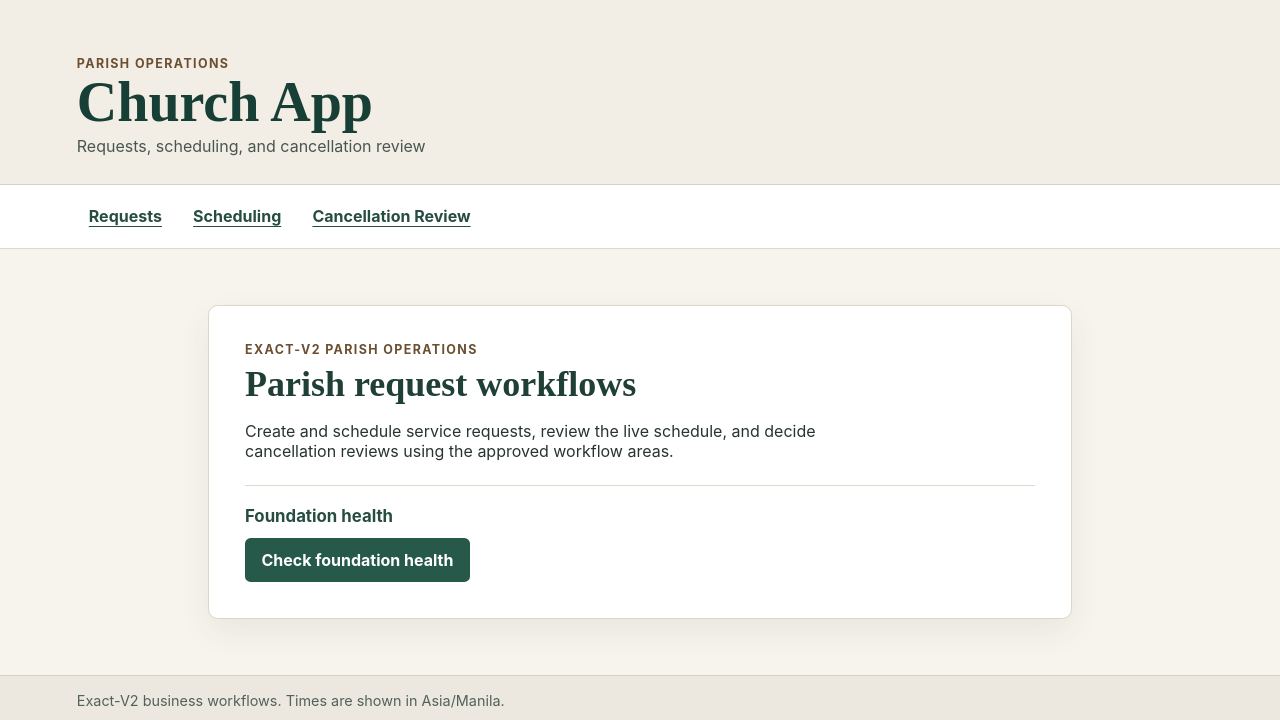
application foundation › renders a successful typed health response
Click the button "Check foundation health": [357, 560] box x1=245 y1=538 x2=470 y2=582
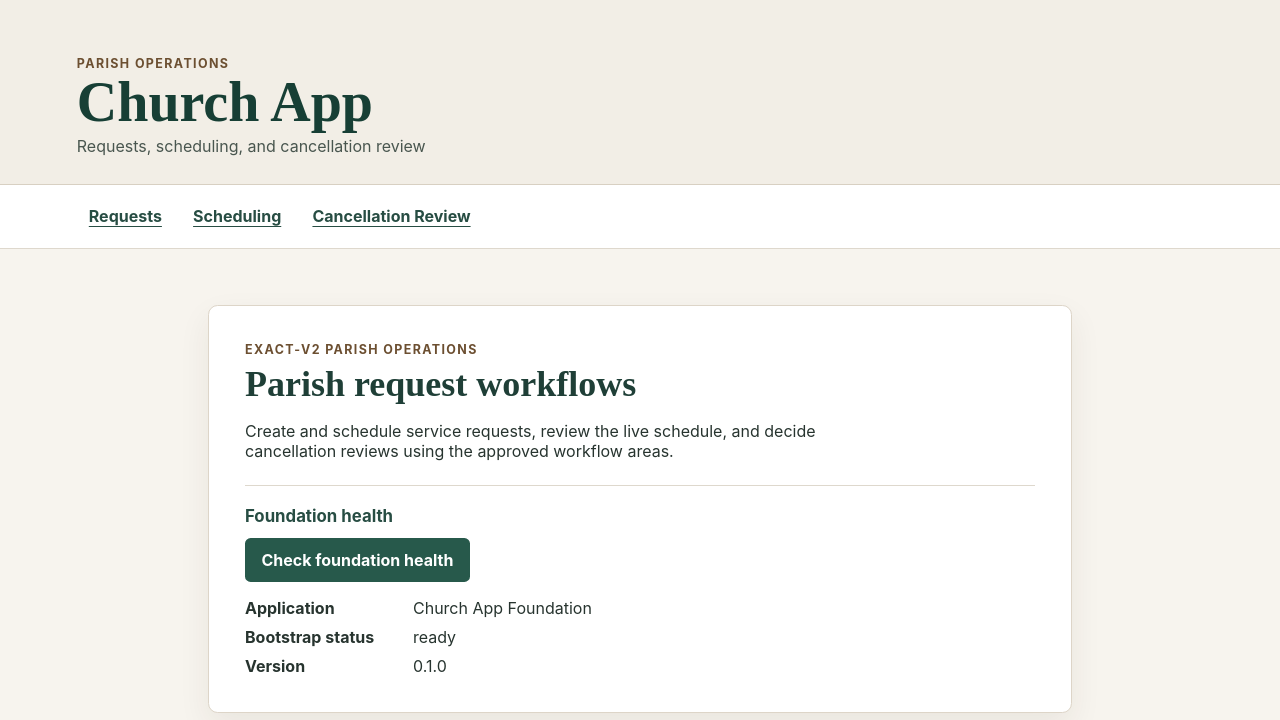
Expected: the message shows "Church App Foundation", x1=413 y1=598 x2=592 y2=618
Expected: the message shows "ready", x1=413 y1=627 x2=456 y2=647
Expected: the message shows "0.1.0", x1=413 y1=656 x2=447 y2=676
